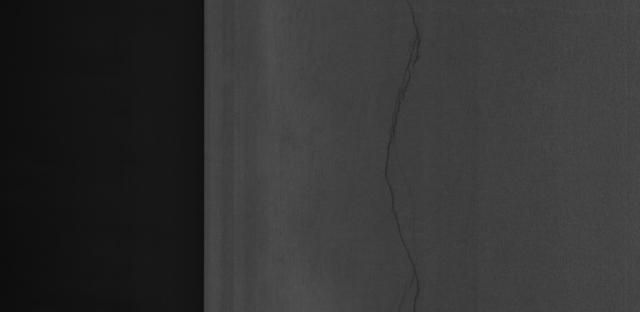water_spot: (370, 8, 458, 296)
